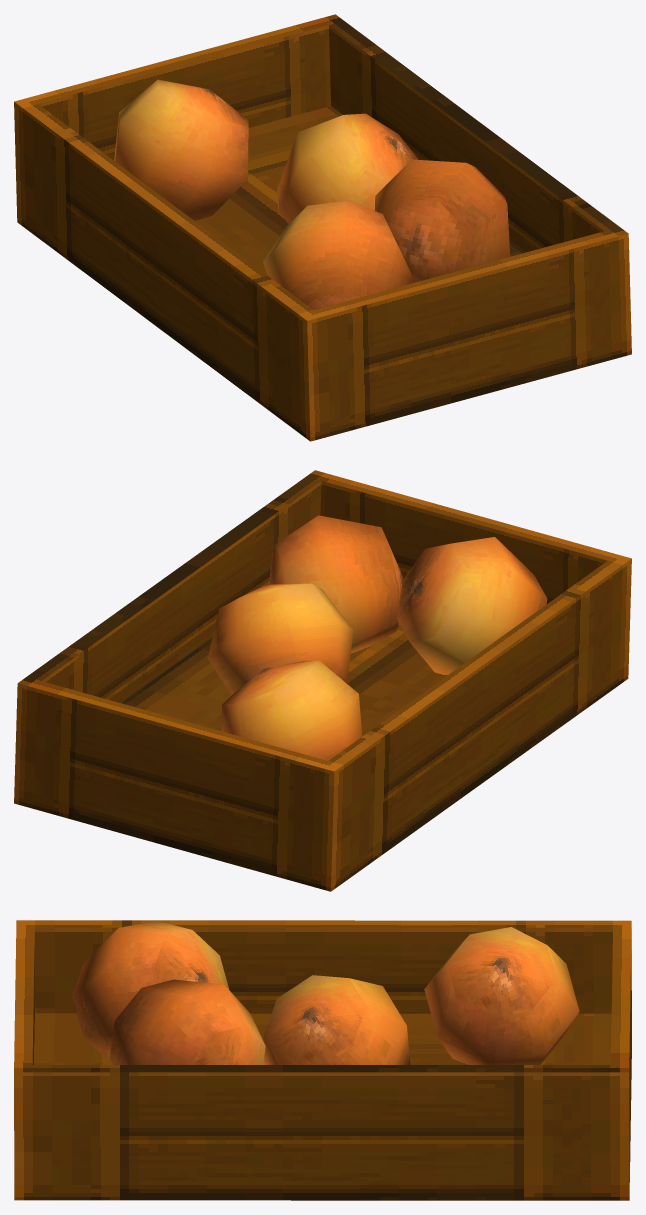
File: INST_HTOWN_BOXOFORANGES.fbx
3 renders of one model, top to bottom at view 1: azimuth 30°, elevation 25°; view 2: azimuth 150°, elevation 25°; view 3: azimuth 270°, elevation 25°, orthographic. The views are drawn at different scales.
Parts seen in each view (by area): view 1: INST_HTOWN_BOXOFORANGES; view 2: INST_HTOWN_BOXOFORANGES; view 3: INST_HTOWN_BOXOFORANGES.
Boxes of the visible parts, <box> form: INST_HTOWN_BOXOFORANGES: <box>14,14,631,441</box>; INST_HTOWN_BOXOFORANGES: <box>14,470,631,891</box>; INST_HTOWN_BOXOFORANGES: <box>14,920,631,1200</box>.
Size of the model in its own units: 4252 by 2044 by 6705.
Materials: 2 (2 with a texture image).
